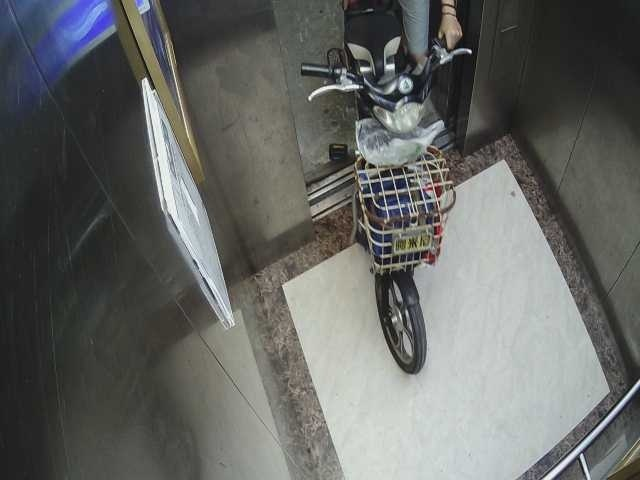emotor: (302, 4, 468, 373)
